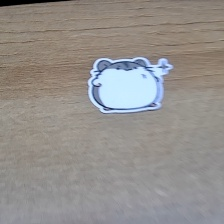mouse: (87, 54, 177, 119)
